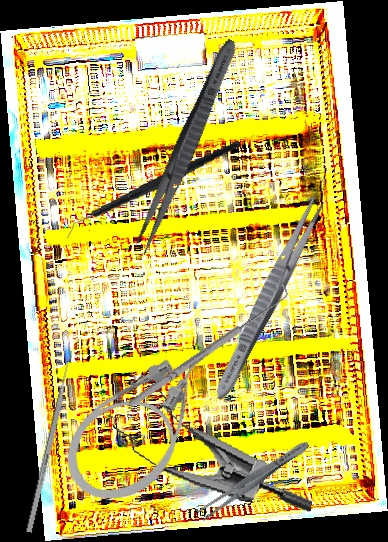Cannula: (45, 332, 244, 523)
Chopper: (58, 140, 248, 240)
Dressing Forceps: (208, 185, 332, 405), (129, 35, 243, 259), (195, 437, 313, 523)
Hook Surgical: (122, 282, 294, 411)
Pusher: (25, 350, 75, 533)
Speculum: (96, 369, 329, 514)
